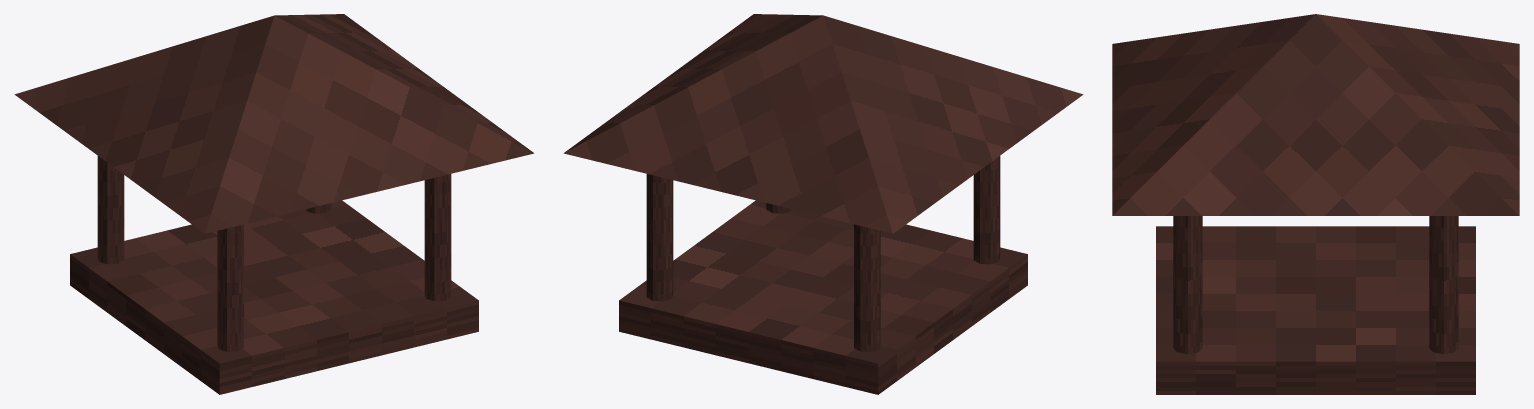
File: pavilion_03.glb
The picture shows the model from 3 angles, left to right: view 1: azimuth 30°, elevation 25°; view 2: azimuth 150°, elevation 25°; view 3: azimuth 270°, elevation 25°; orthographic projection. The views are drawn at different scales.
Parts seen in each view (by area): view 1: Roof, Floor, Column.002, Column, Column.001; view 2: Roof, Floor, Column.003, Column.001, Column; view 3: Roof, Floor, Column.002, Column.003.
Boxes of the visible parts, left/top/right/bottom form: Roof: left=14, top=14, right=534, bottom=233; Floor: left=70, top=200, right=478, bottom=394; Column.002: left=424, top=174, right=451, bottom=301; Column: left=217, top=224, right=243, bottom=351; Column.001: left=97, top=156, right=124, bottom=264; Roof: left=563, top=14, right=1083, bottom=233; Floor: left=619, top=200, right=1027, bottom=394; Column.003: left=646, top=174, right=673, bottom=301; Column.001: left=854, top=224, right=880, bottom=351; Column: left=973, top=156, right=1000, bottom=264; Roof: left=1112, top=14, right=1519, bottom=215; Floor: left=1156, top=226, right=1475, bottom=394; Column.002: left=1173, top=216, right=1202, bottom=354; Column.003: left=1429, top=216, right=1458, bottom=354.
Bounding box in the file's own units: 3.31 × 2.81 × 3.31.
1 material, 1 textured.
